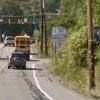Car: (6, 46, 27, 70)
